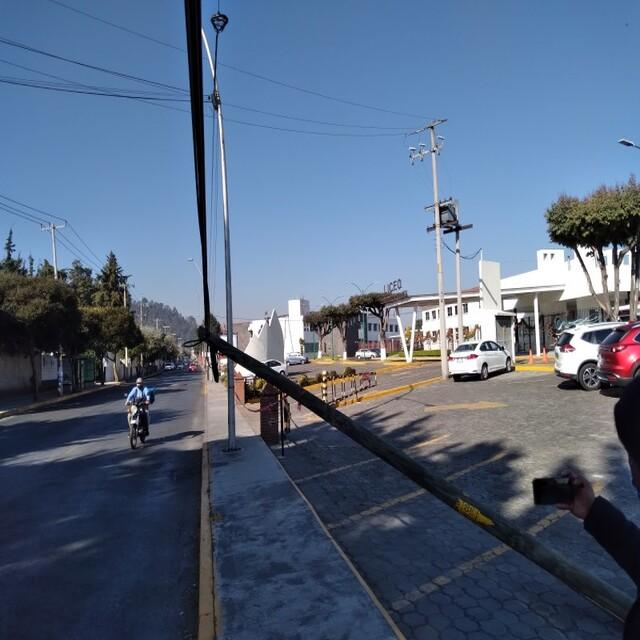Inclined Pole: (191, 316, 631, 621)
